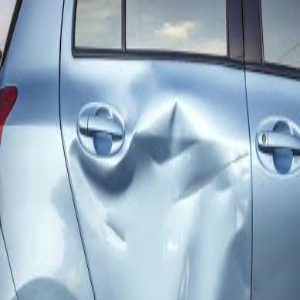door: (59, 95, 259, 288)
